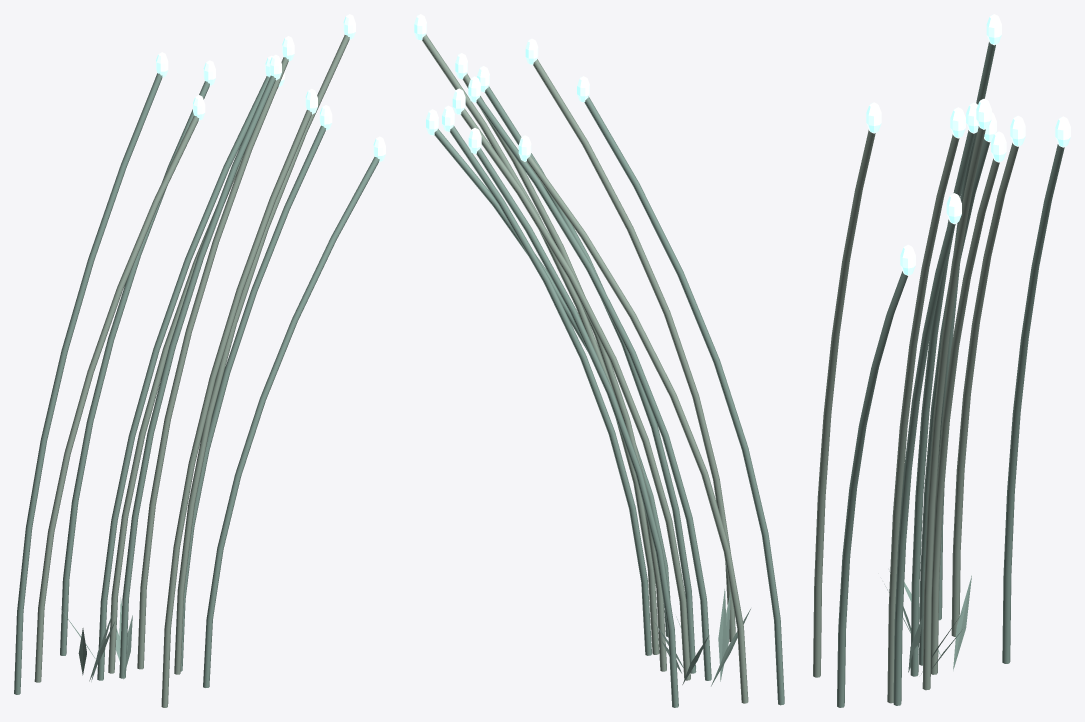
Rendered from stormreed.glb.
3 views of the same model, side by side, from view 1: azimuth 30°, elevation 25°; view 2: azimuth 150°, elevation 25°; view 3: azimuth 270°, elevation 25° (orthographic). The views are drawn at different scales.
Parts seen in each view (by area): view 1: SR_reed0, SR_reed10, SR_reed7, SR_reed3, SR_reed2, SR_reed1, SR_reed4, SR_reed9, SR_reed8, SR_reed6, SR_reed5; view 2: SR_reed0, SR_reed2, SR_reed5, SR_reed8, SR_reed1, SR_reed6, SR_reed7, SR_reed9, SR_reed10, SR_reed3, SR_reed4; view 3: SR_reed3, SR_reed7, SR_reed9, SR_reed8, SR_reed5, SR_reed1, SR_reed6, SR_reed10, SR_reed4, SR_reed2, SR_reed0, SR_tuft3.
Boxes of the visible parts, x1,y1,x2,y2 form: SR_reed0: [14, 73, 162, 694]; SR_reed10: [119, 75, 275, 678]; SR_reed7: [161, 110, 311, 707]; SR_reed3: [137, 57, 288, 669]; SR_reed2: [97, 76, 269, 680]; SR_reed1: [34, 115, 198, 682]; SR_reed4: [203, 157, 379, 687]; SR_reed9: [174, 35, 349, 674]; SR_reed8: [60, 81, 209, 655]; SR_reed6: [181, 125, 325, 671]; SR_reed5: [108, 87, 278, 673]; SR_reed0: [584, 96, 784, 705]; SR_reed2: [476, 96, 711, 680]; SR_reed5: [460, 108, 690, 680]; SR_reed8: [476, 148, 678, 707]; SR_reed1: [526, 155, 748, 703]; SR_reed6: [450, 126, 651, 655]; SR_reed7: [533, 59, 735, 641]; SR_reed9: [422, 34, 659, 654]; SR_reed10: [484, 86, 696, 673]; SR_reed3: [462, 73, 666, 671]; SR_reed4: [434, 129, 670, 636]; SR_reed3: [922, 126, 985, 690]; SR_reed7: [813, 130, 875, 677]; SR_reed9: [887, 134, 959, 703]; SR_reed8: [1002, 144, 1064, 663]; SR_reed5: [931, 158, 999, 674]; SR_reed1: [951, 143, 1018, 636]; SR_reed6: [893, 220, 955, 705]; SR_reed10: [910, 130, 975, 676]; SR_reed4: [837, 271, 907, 707]; SR_reed2: [919, 139, 990, 665]; SR_reed0: [937, 42, 995, 620]; SR_tuft3: [953, 575, 971, 670].
Size of the model in its own units: 0.9781 by 1.54 by 0.5056.
